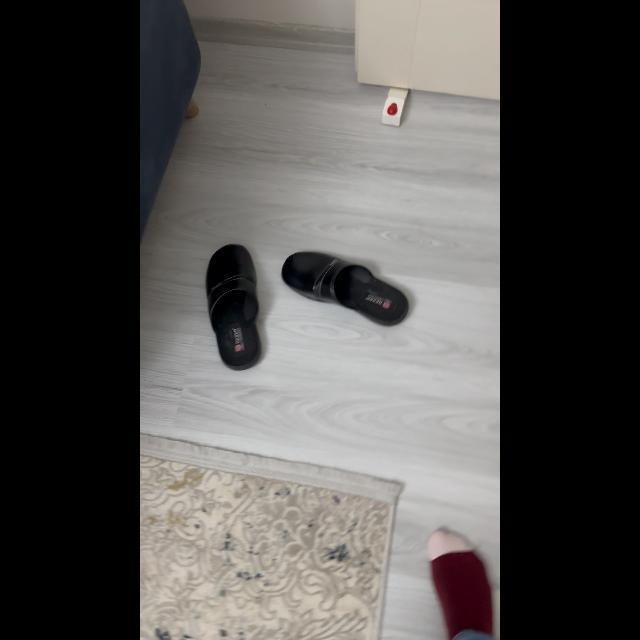slipper: (278, 245, 416, 332), (198, 238, 270, 374)
